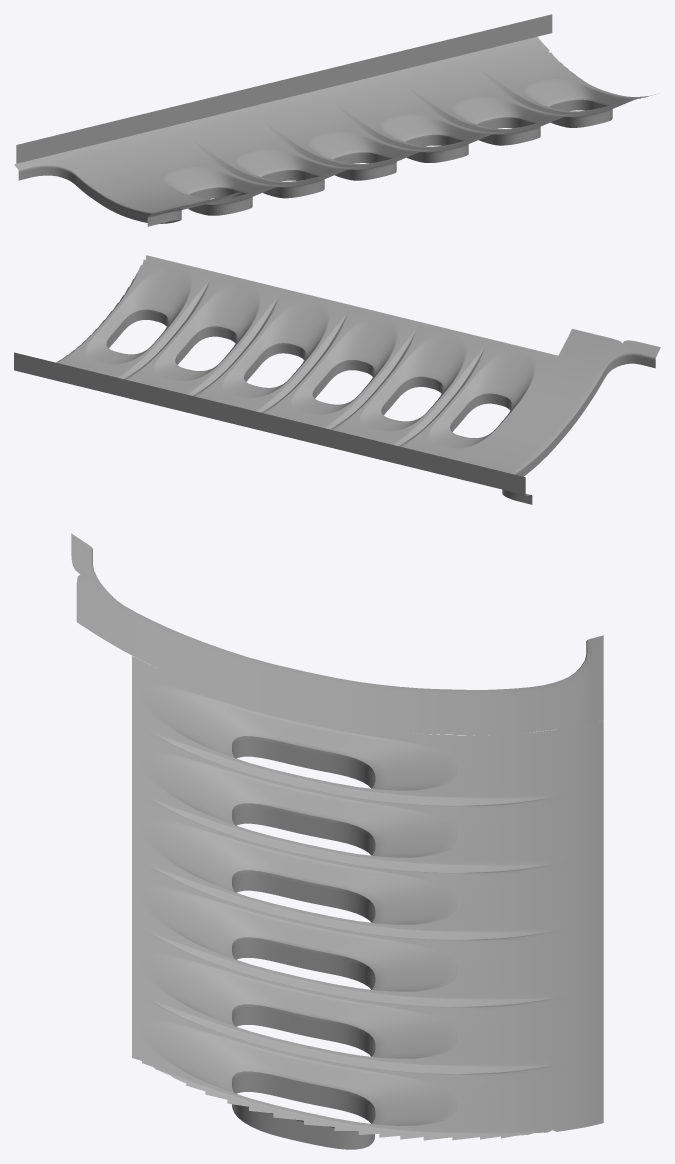
File: aircraft_room.obj
3 views of the same model, one above another, from view 1: azimuth 30°, elevation 25°; view 2: azimuth 150°, elevation 25°; view 3: azimuth 270°, elevation 25° (orthographic). The views are drawn at different scales.
Visible parts, largest first — view 1: aircraft_room; view 2: aircraft_room; view 3: aircraft_room.
Part boxes in pixels (x1,y1,x2,y2): aircraft_room: (14,14,655,226); aircraft_room: (14,255,660,504); aircraft_room: (71,533,603,1149).
Size of the model in its own units: 43.17 by 5.91 by 19.37.
